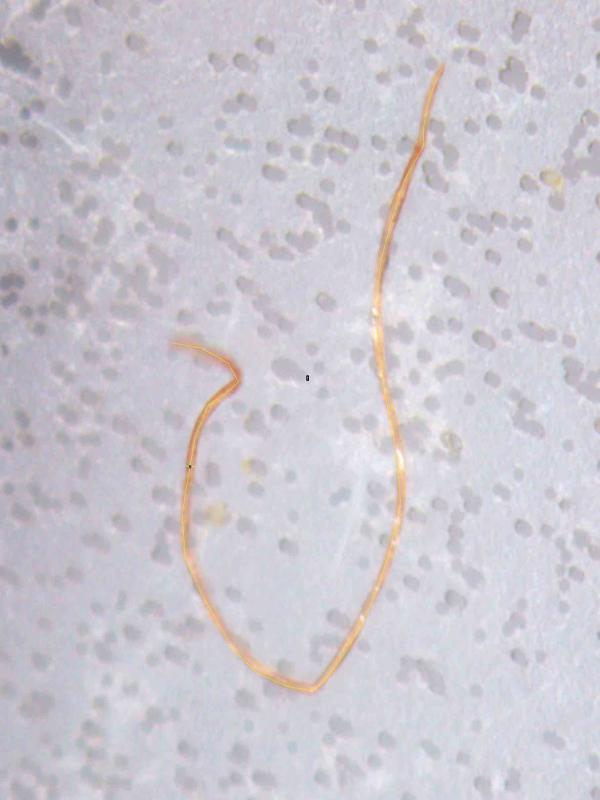microplastic: (170, 61, 446, 694)
